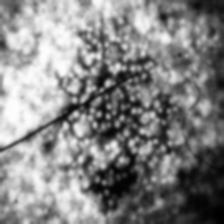Potentially Malignant Skin Tumors: (58, 18, 170, 198)
